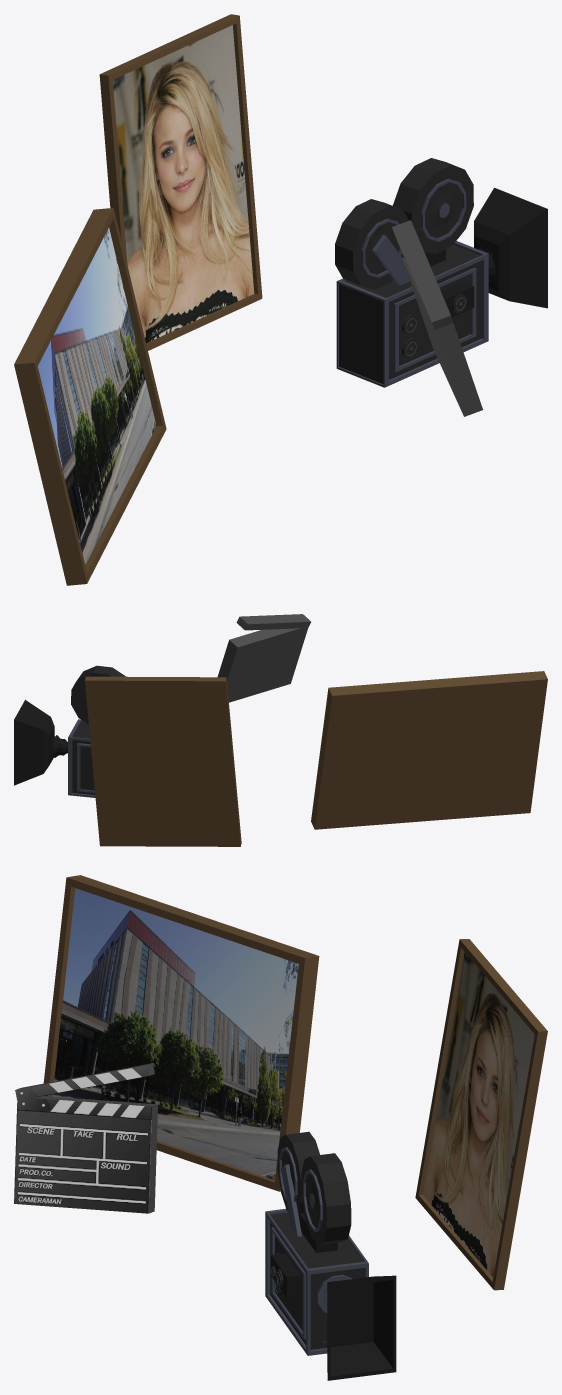
File: Accolade.glb
3 views of the same model, one above another, from view 1: azimuth 30°, elevation 25°; view 2: azimuth 150°, elevation 25°; view 3: azimuth 270°, elevation 25° (orthographic). The views are drawn at different scales.
Parts seen in each view (by area): view 1: Cube.001, Cube, Cube.003, Cube.002; view 2: Cube, Cube.001, Cube.003, Cube.002; view 3: Cube, Cube.001, Cube.003, Cube.002.
Part boxes in pixels (x1,y1,x2,y2): Cube.001: (99,14,262,350); Cube: (14,208,166,585); Cube.003: (335,158,547,387); Cube.002: (392,220,482,416); Cube: (311,671,547,829); Cube.001: (85,676,241,846); Cube.003: (14,665,125,797); Cube.002: (217,614,310,702); Cube: (43,875,319,1191); Cube.001: (415,939,547,1290); Cube.003: (265,1131,396,1380); Cube.002: (14,1063,157,1213).
Bounding box in the file's own units: 7.11 × 3.05 × 5.12.
8 materials, 3 textured.
